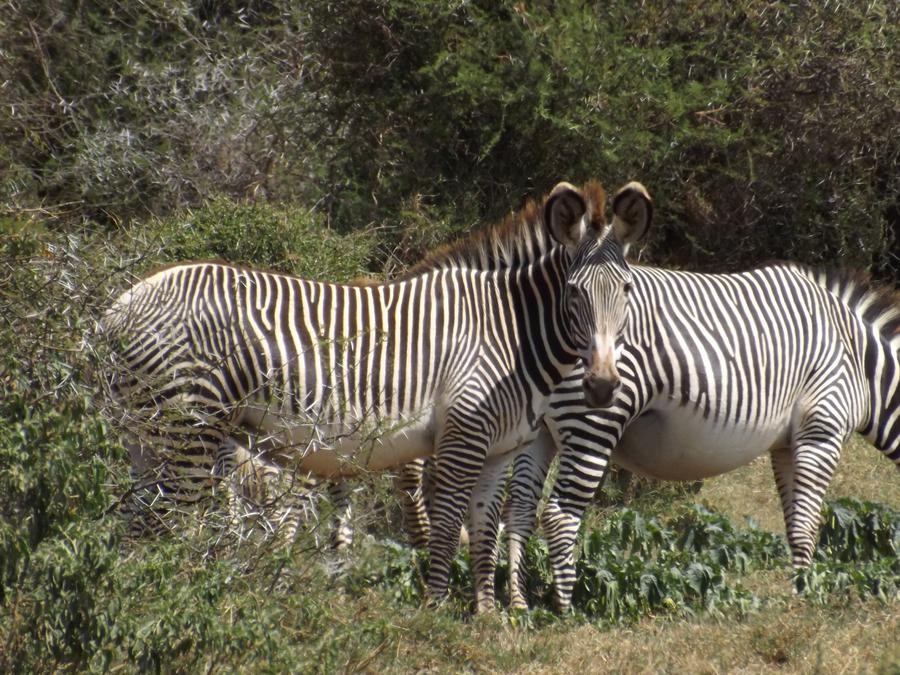zebra_grevys: (123, 235, 502, 453)
